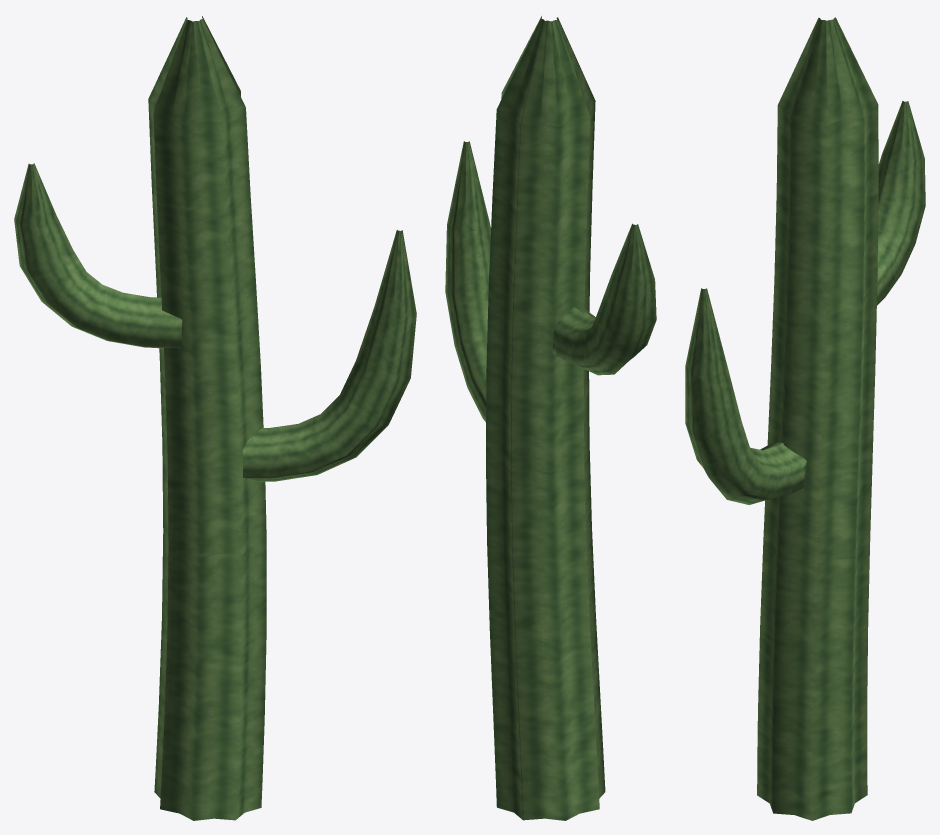
File: bush_desert_cactus_a.glb
The picture shows the model from 3 angles, left to right: view 1: azimuth 30°, elevation 25°; view 2: azimuth 150°, elevation 25°; view 3: azimuth 270°, elevation 25°; orthographic projection.
Visible parts, largest first — view 1: bush_desert_cactus_a; view 2: bush_desert_cactus_a; view 3: bush_desert_cactus_a.
Boxes of the visible parts, <box> form: bush_desert_cactus_a: <box>14,16,416,820</box>; bush_desert_cactus_a: <box>445,16,656,820</box>; bush_desert_cactus_a: <box>685,17,925,820</box>.
Bounding box in the file's own units: 2.15 × 5.42 × 1.52.
Materials: 1 (1 with a texture image).
